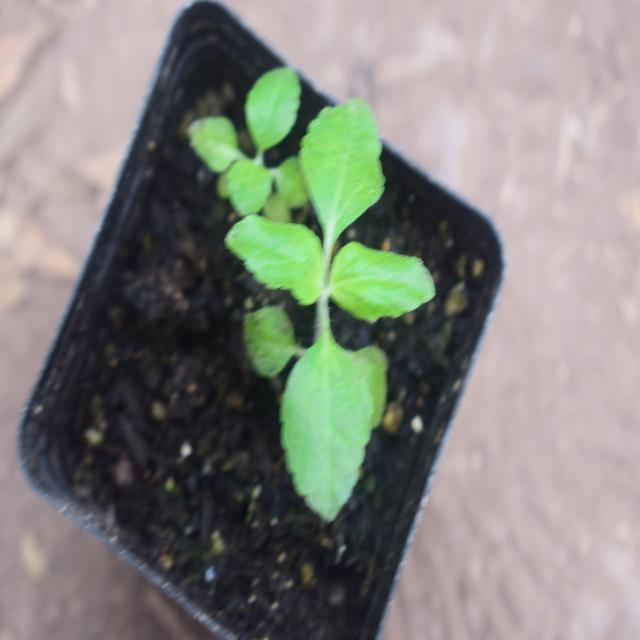billygoat_weed: (227, 91, 429, 506)
